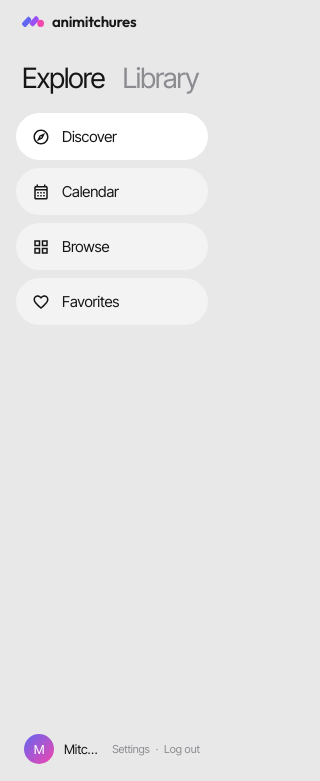
Test: switching to Library shows only library items
Click the tab "Library". click: (160, 78)
box: x1=122 y1=61 x2=198 y2=95
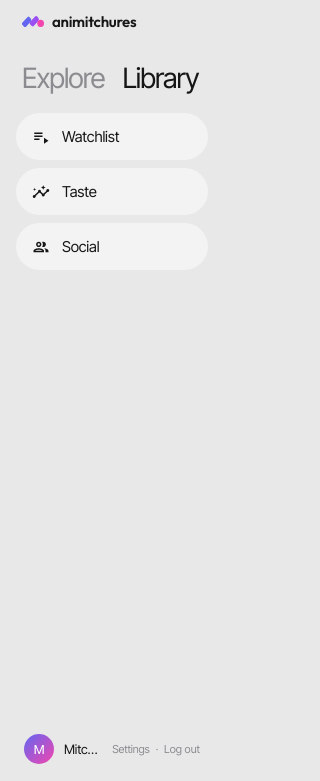
Expected: the link "Calendar" is gone
Expected: the link "Watchlist" is shown, x1=16 y1=113 x2=208 y2=160
Expected: the link "Taste" is shown, x1=16 y1=168 x2=208 y2=215
